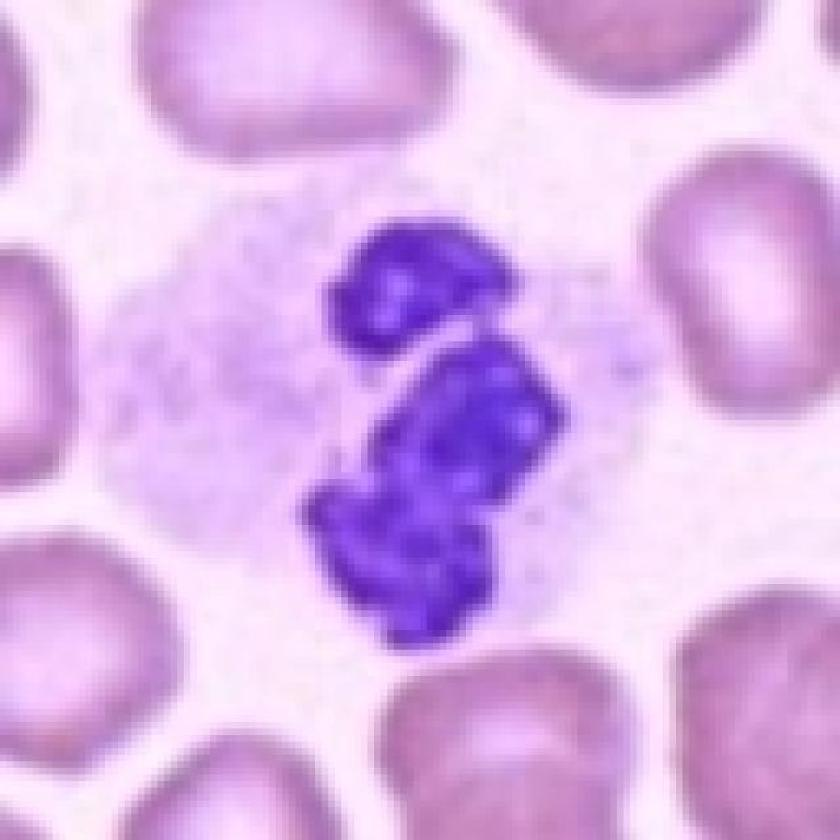neutrophil: (146, 93, 776, 699)
